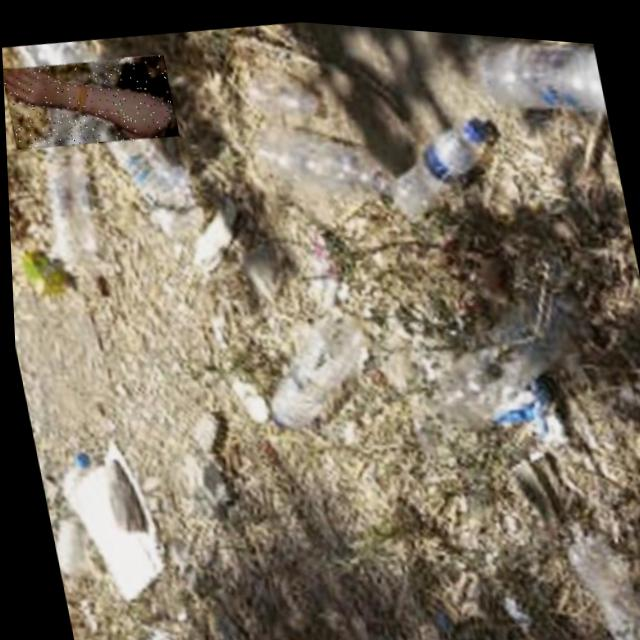Person in Rubble: (1, 42, 179, 158)
